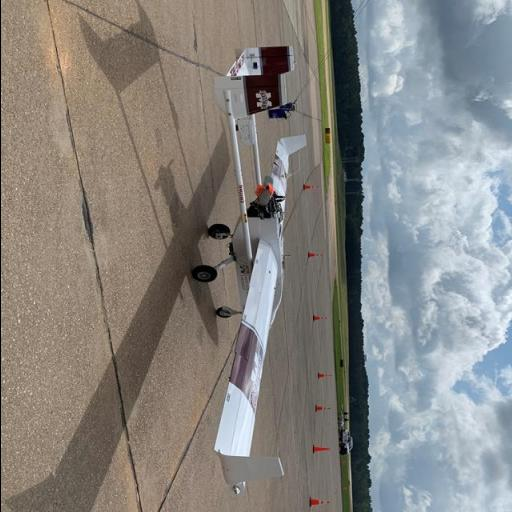uav: (150, 38, 334, 496)
